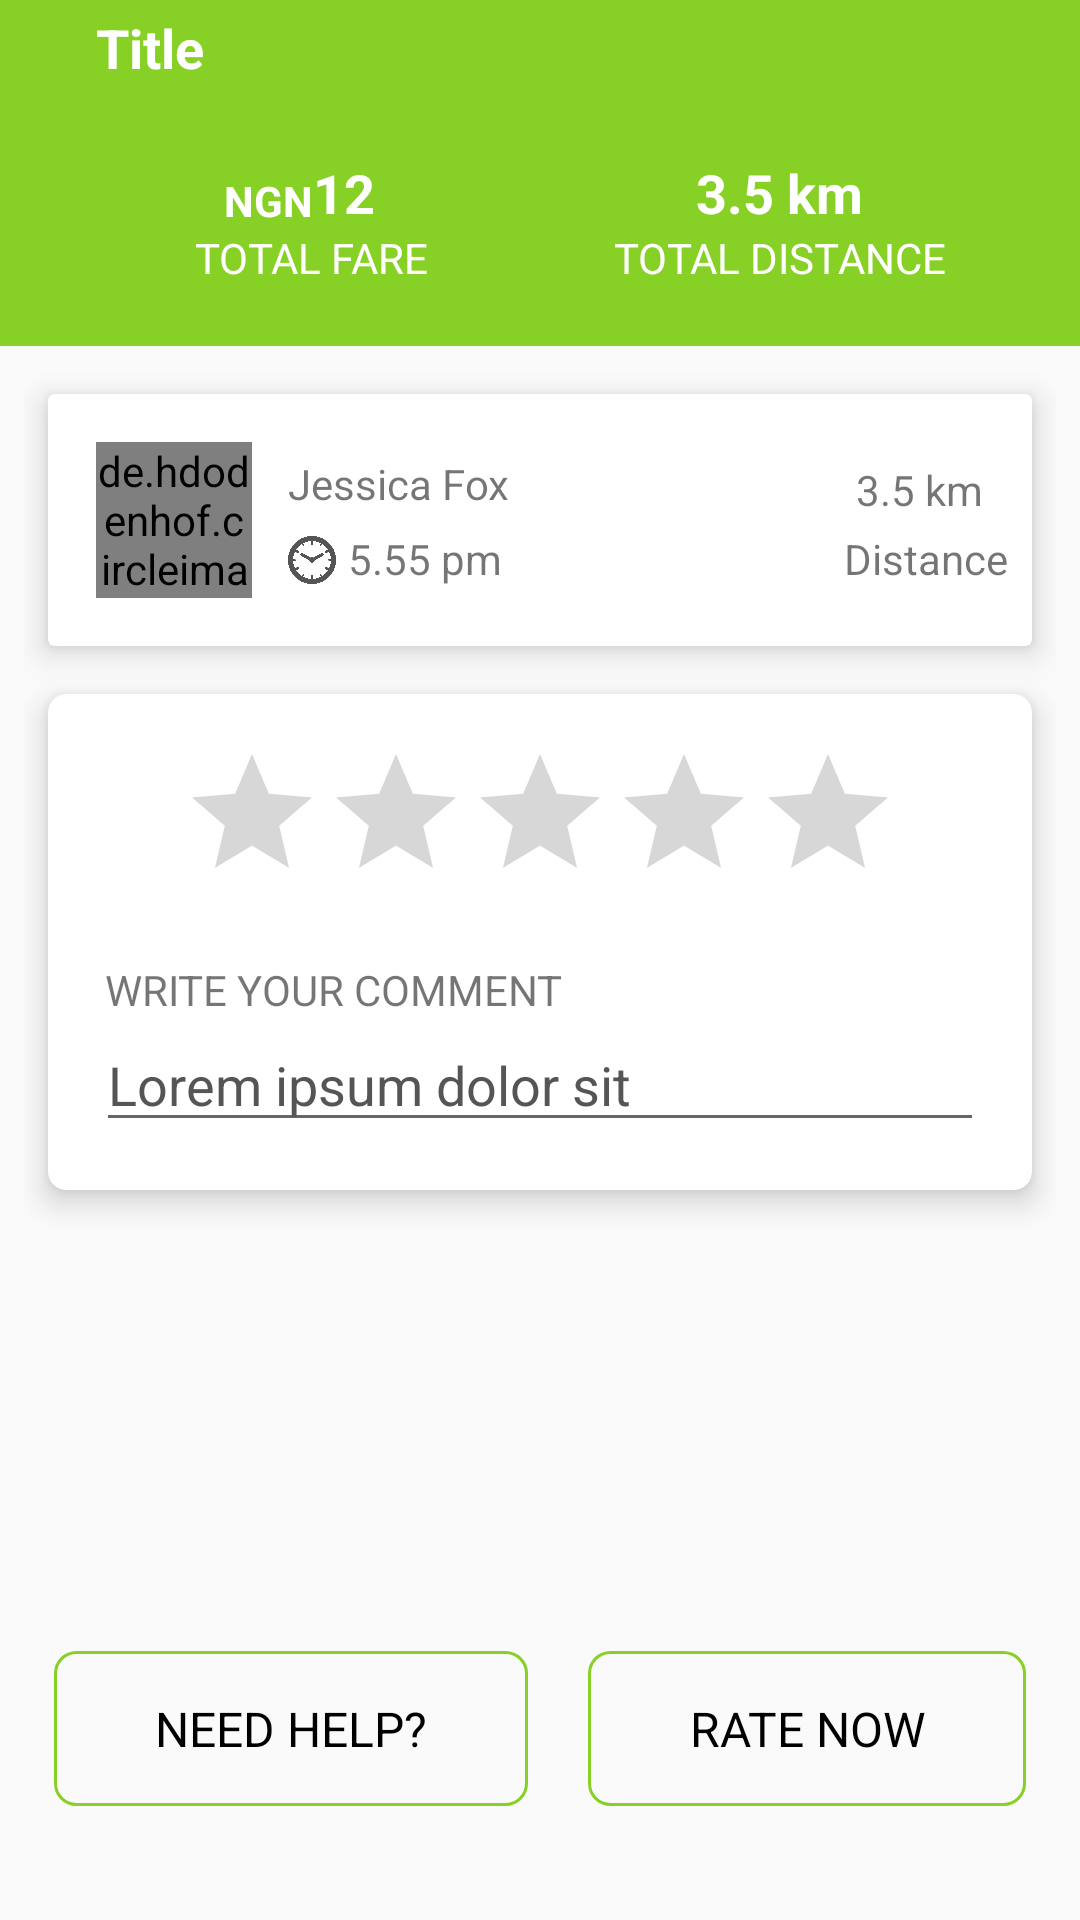

Screen size 1080 × 1920. Icon name, then its center in pixels as [x,y]:
timer: [312,560]
